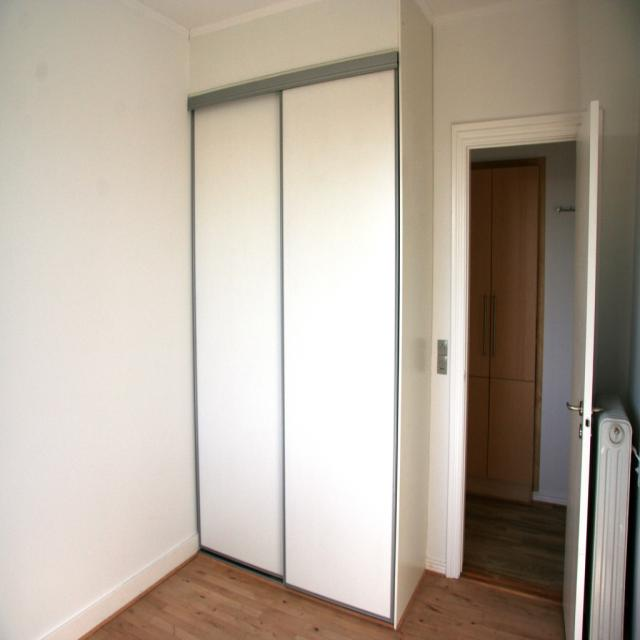door_local: (451, 104, 598, 640)
